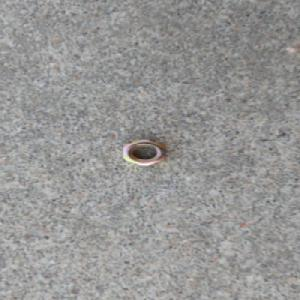Nut: (120, 139, 167, 166)
